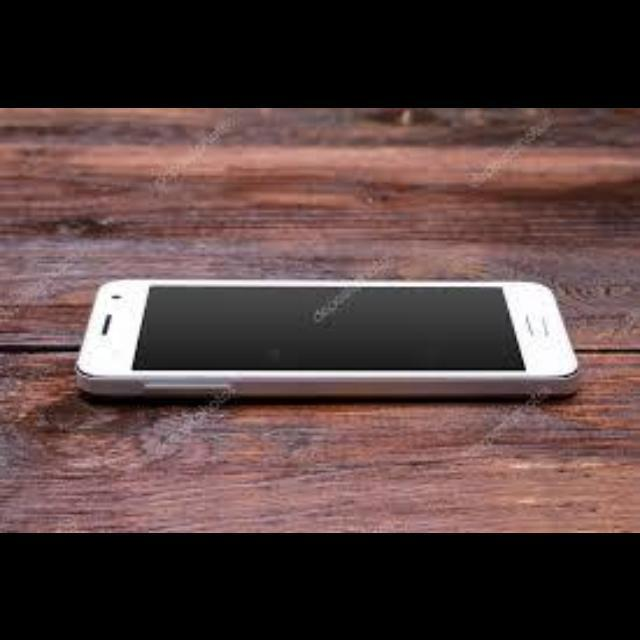phone: (73, 277, 561, 384)
